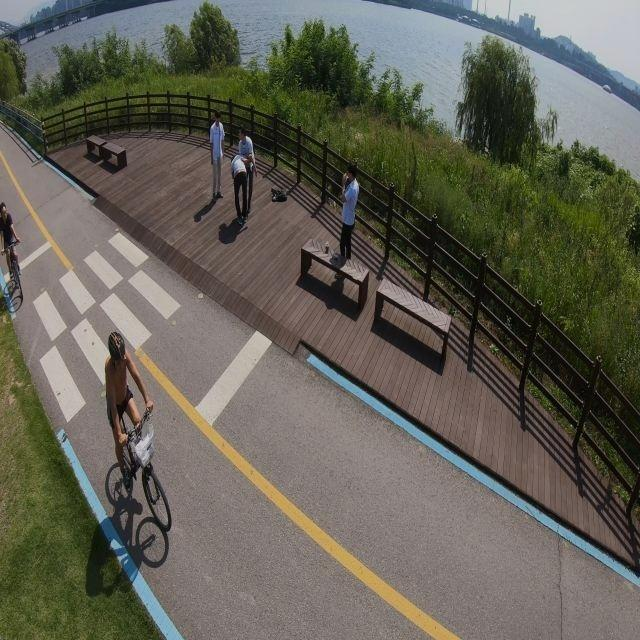fight: (229, 128, 256, 223)
non-fight: (336, 168, 357, 268), (207, 110, 224, 201)
